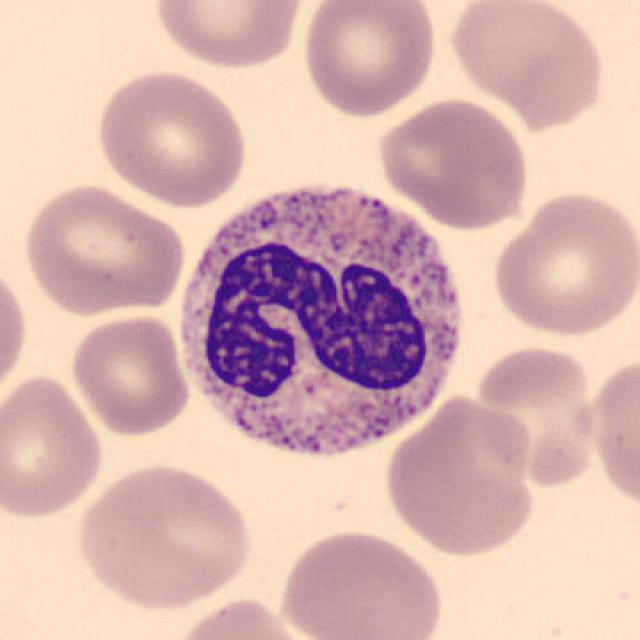Neutrophil: (167, 162, 471, 474)
RBC: (71, 458, 256, 612), (381, 390, 538, 559), (18, 180, 188, 319), (489, 185, 638, 339), (90, 67, 250, 208), (374, 95, 534, 231), (444, 0, 610, 129), (274, 525, 448, 640), (471, 344, 601, 488), (299, 0, 441, 120), (66, 310, 194, 439), (0, 370, 107, 522), (150, 0, 308, 71), (586, 349, 640, 514), (170, 594, 314, 640), (0, 257, 30, 404)
